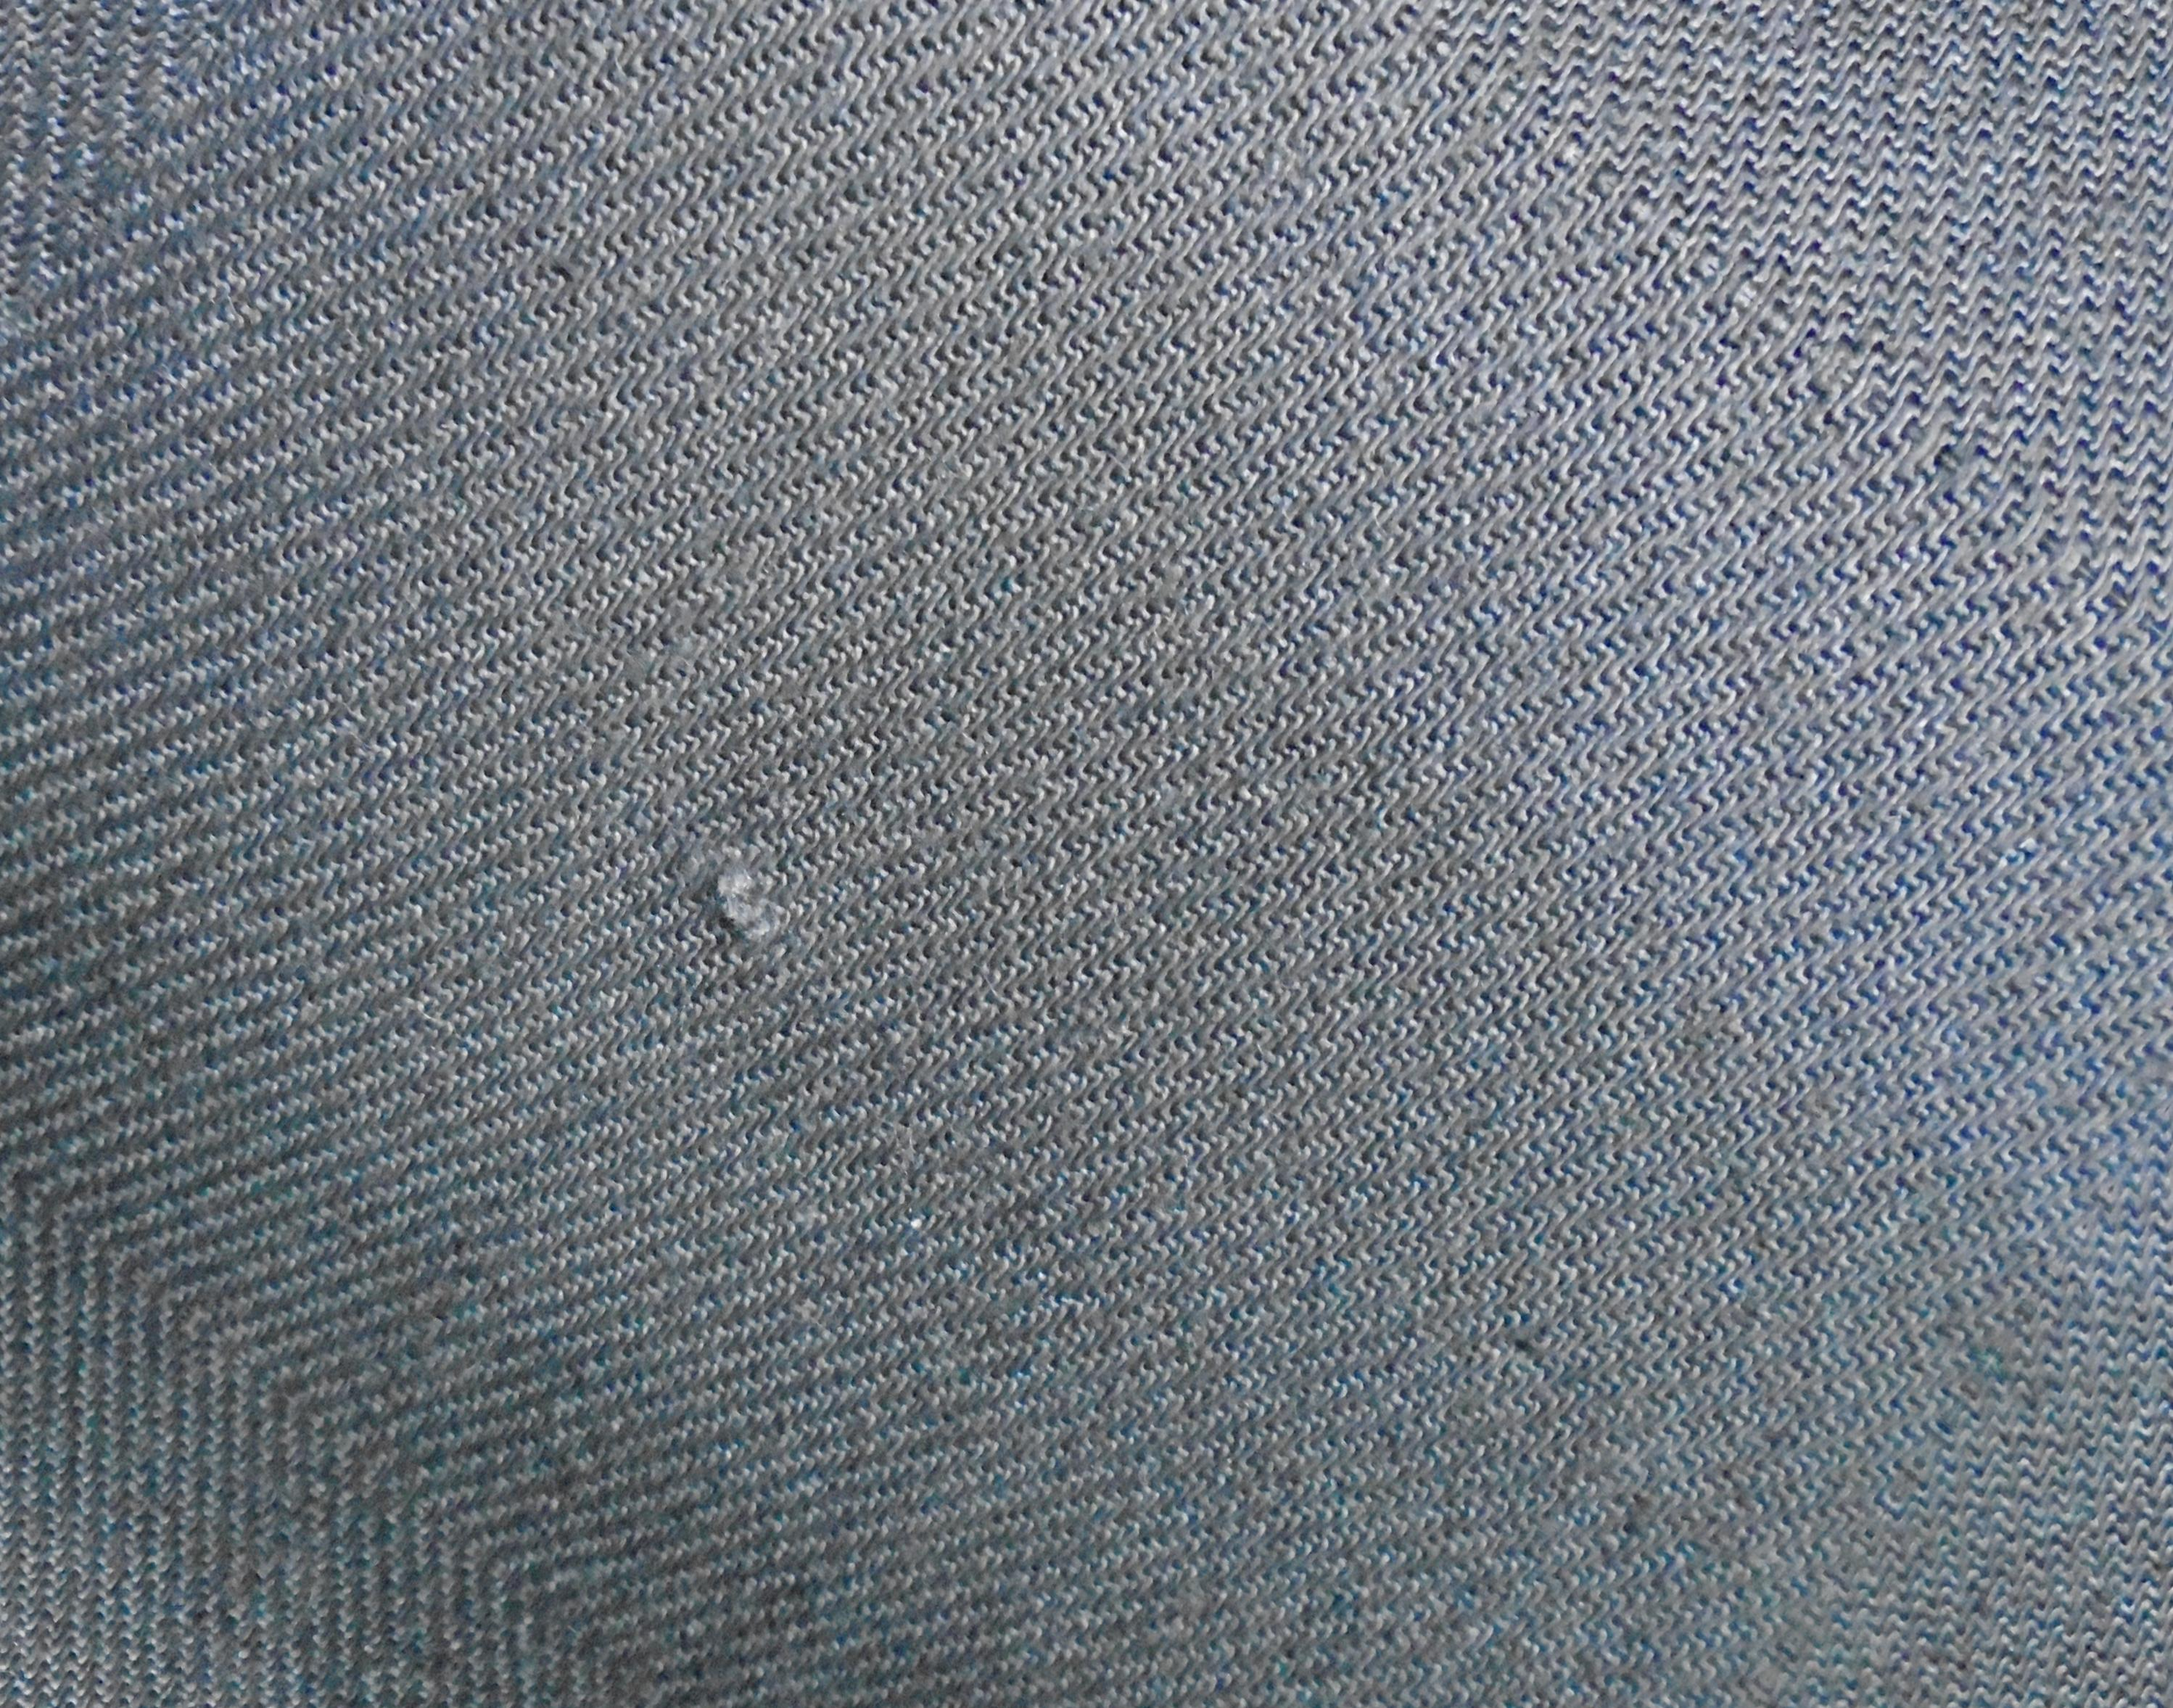knot: (665, 820, 834, 986)
